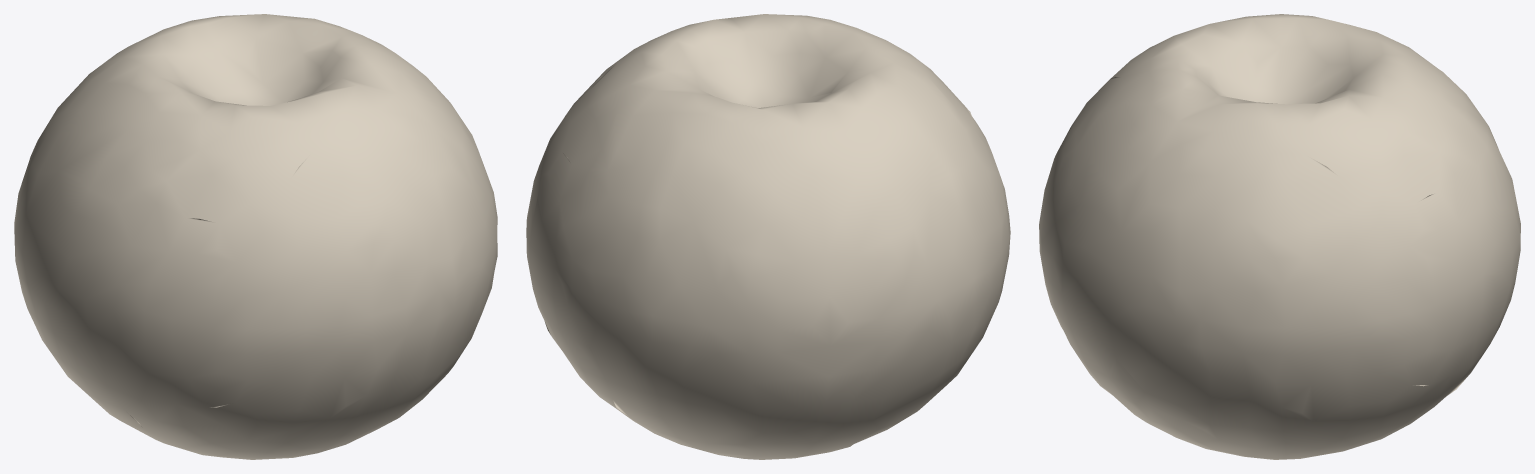
Rendered from apple.glb.
3 renders of one model, left to right at view 1: azimuth 30°, elevation 25°; view 2: azimuth 150°, elevation 25°; view 3: azimuth 270°, elevation 25°, orthographic.
Parts seen in each view (by area): view 1: apple; view 2: apple; view 3: apple.
Boxes of the visible parts, x1,y1,x2,y2 form: apple: [14, 14, 497, 459]; apple: [526, 14, 1010, 459]; apple: [1039, 14, 1520, 459].
Size of the model in its own units: 0.1092 by 0.0935 by 0.1092.
